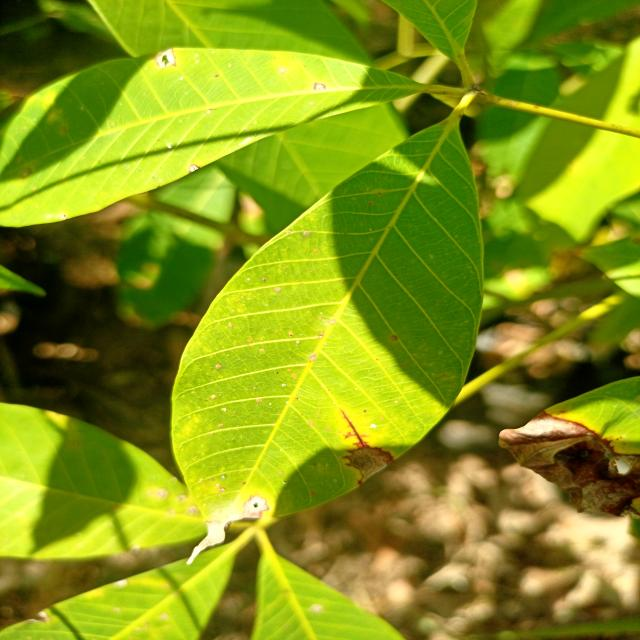Corynespora: (340, 409, 370, 448)
Leaf-Blight: (499, 412, 640, 520), (188, 494, 268, 564), (352, 447, 391, 482), (155, 47, 175, 69)
